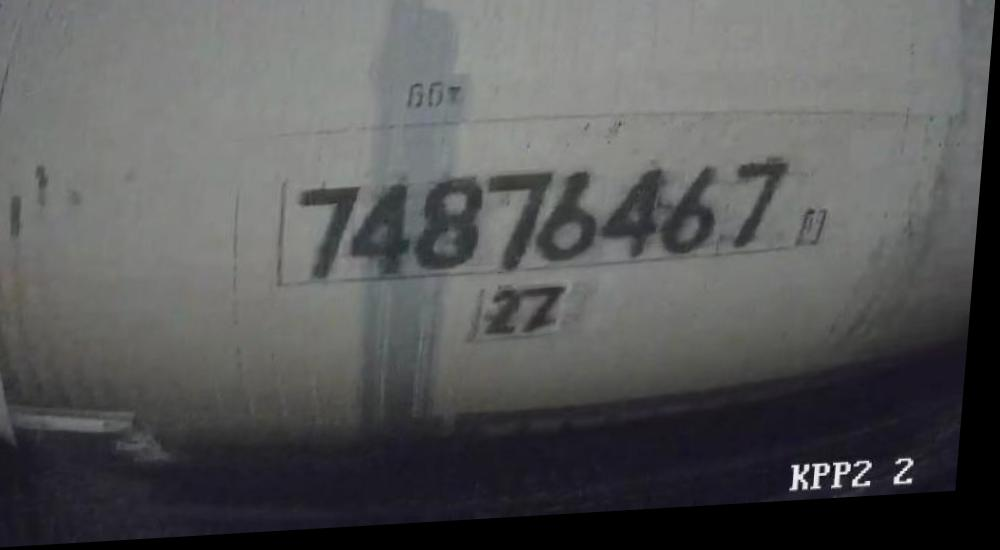Wagon-number: (293, 160, 797, 287)
